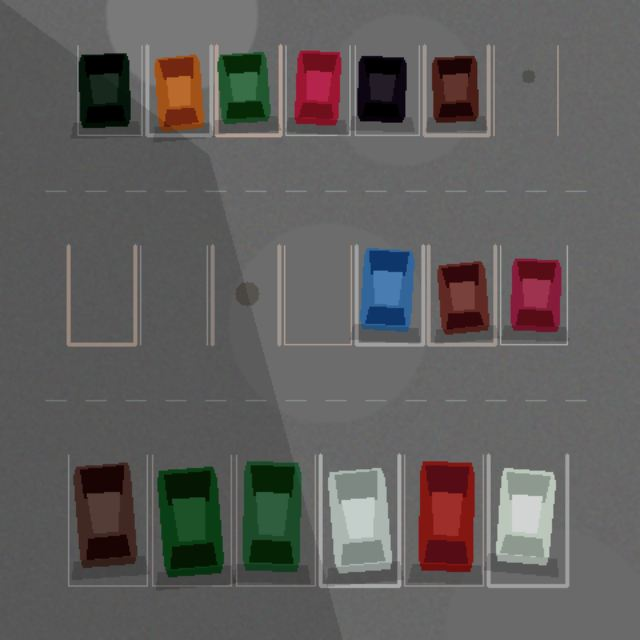space-empty: (68, 245, 135, 344), (140, 245, 207, 344), (212, 245, 279, 344), (284, 245, 351, 344), (493, 45, 557, 135)
space-occupied: (68, 455, 147, 585), (152, 455, 231, 585), (236, 455, 315, 585), (320, 455, 399, 585), (404, 455, 483, 585), (488, 455, 567, 585), (356, 245, 423, 344), (428, 245, 495, 344), (500, 245, 567, 344), (77, 45, 141, 135), (147, 45, 211, 135), (216, 45, 280, 135), (285, 45, 349, 135), (355, 45, 419, 135), (424, 45, 488, 135)
